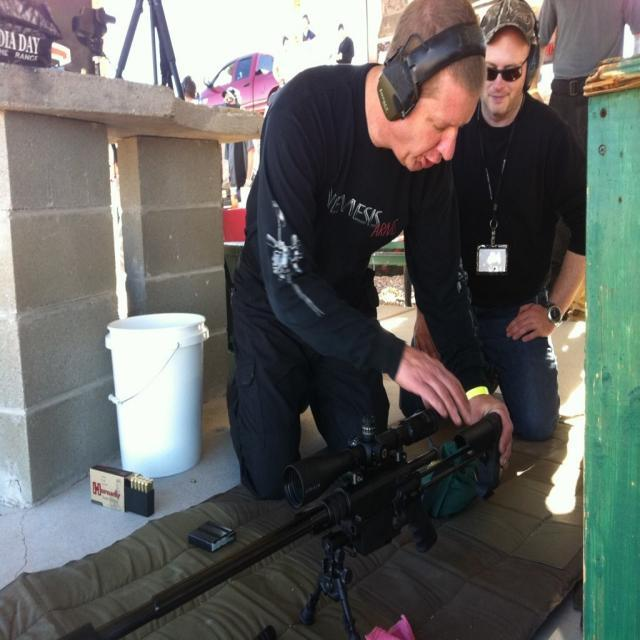weapon: (54, 406, 504, 640)
